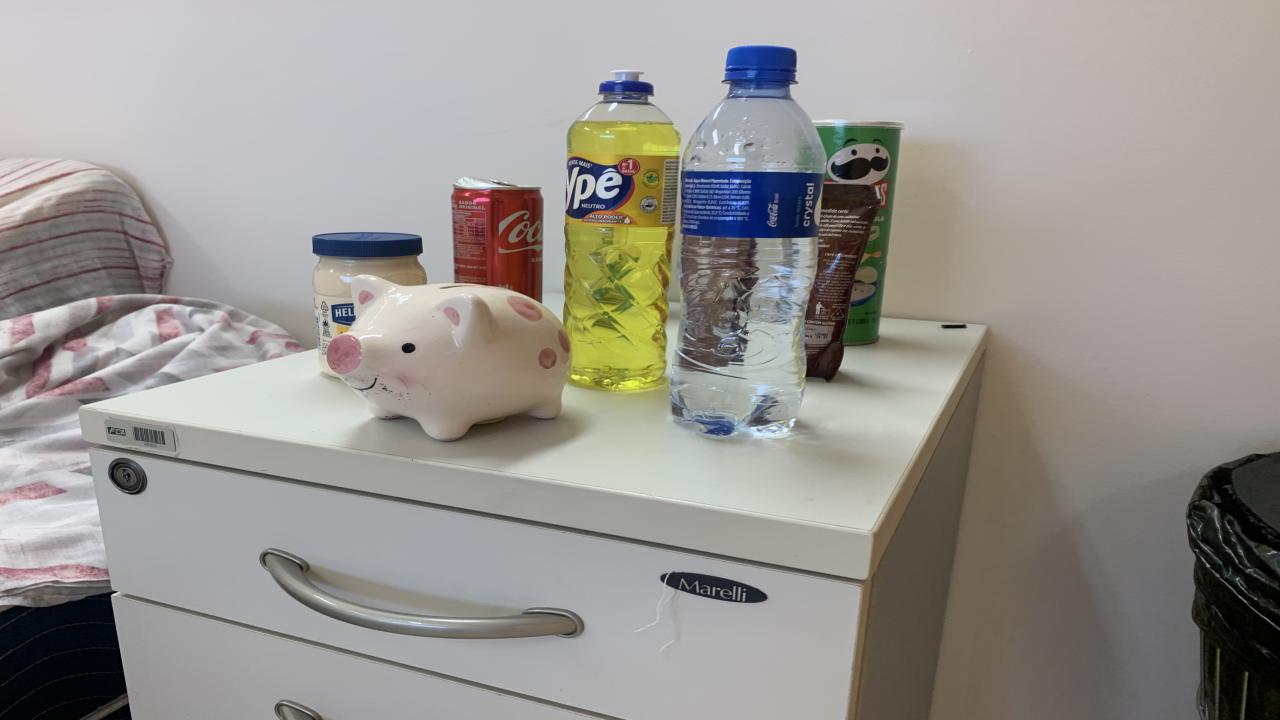Coffee-Pantry_Items: (805, 184, 880, 381)
Coke-Drinks: (452, 178, 542, 300)
Detergent-Cleanup_Items: (565, 71, 680, 390)
Mayonnaise-Pantry_Items: (312, 232, 428, 373)
Pig_Safe-Miscellaneous: (328, 274, 570, 441)
Pringles-Snacks: (815, 120, 905, 345)
Water_Bottle-Drinks: (670, 45, 825, 437)
